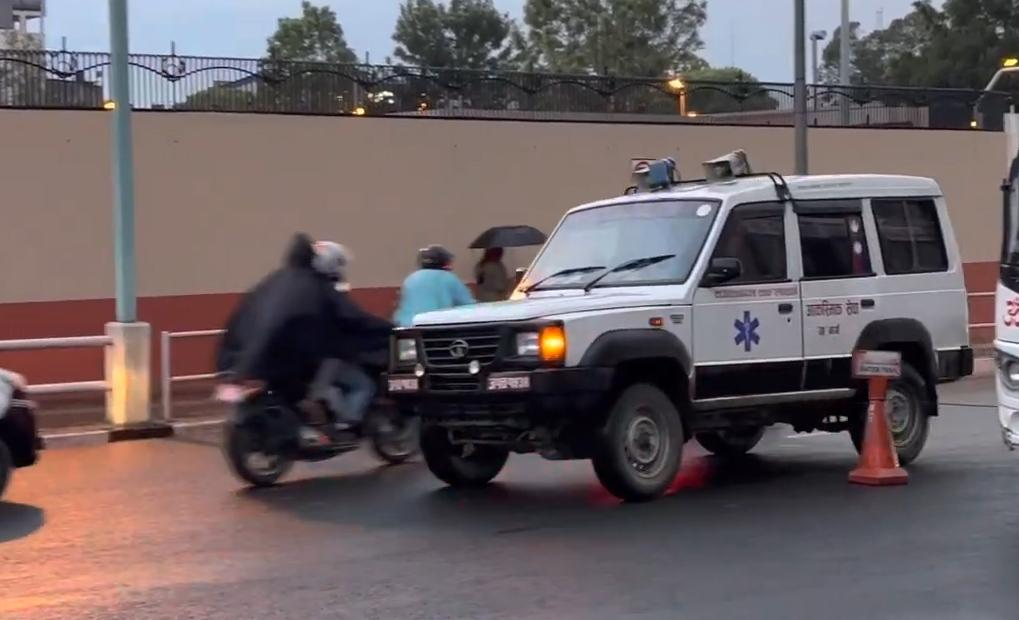ambulance: (375, 134, 975, 515)
